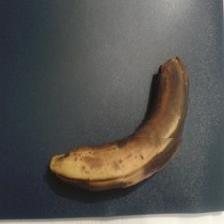Banana Rotten: (41, 135, 200, 198), (135, 53, 195, 178)
